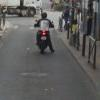Motorcycle: (29, 16, 59, 56)
